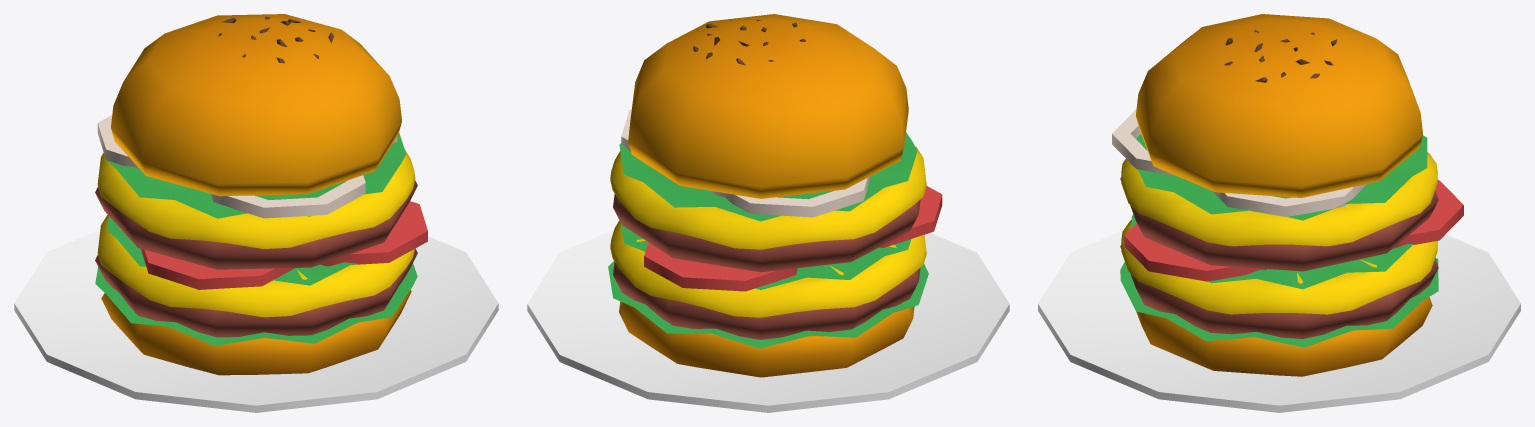
The model's file is Burger.fbx.
The picture shows the model from 3 angles, left to right: view 1: azimuth 30°, elevation 25°; view 2: azimuth 150°, elevation 25°; view 3: azimuth 270°, elevation 25°; orthographic projection.
Visible parts, largest first — view 1: Map02_Hamburger_LV5; view 2: Map02_Hamburger_LV5; view 3: Map02_Hamburger_LV5.
Part boxes in pixels (box(x1,y1,x2,y2)): Map02_Hamburger_LV5: box(14, 14, 498, 412); Map02_Hamburger_LV5: box(527, 14, 1009, 412); Map02_Hamburger_LV5: box(1038, 14, 1520, 412).
Bounding box in the file's own units: 151 × 106 × 151.
